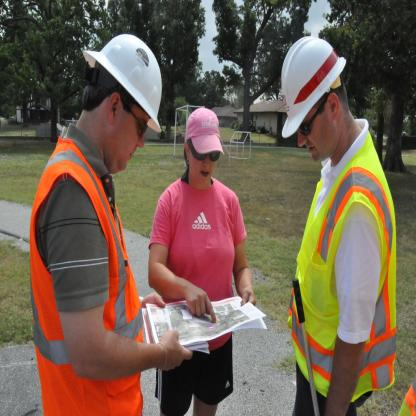Helmet: (75, 32, 161, 158), (281, 34, 347, 140)
